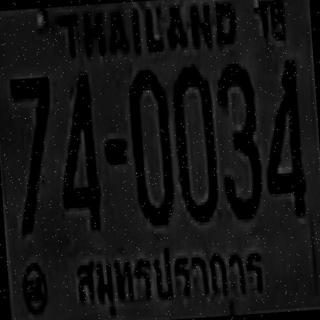N00: (170, 62, 219, 224), (126, 66, 176, 224)
N03: (215, 59, 264, 220)
N04: (258, 55, 307, 216), (53, 71, 101, 229)
N07: (8, 72, 57, 234)
P57: (69, 234, 271, 320)
